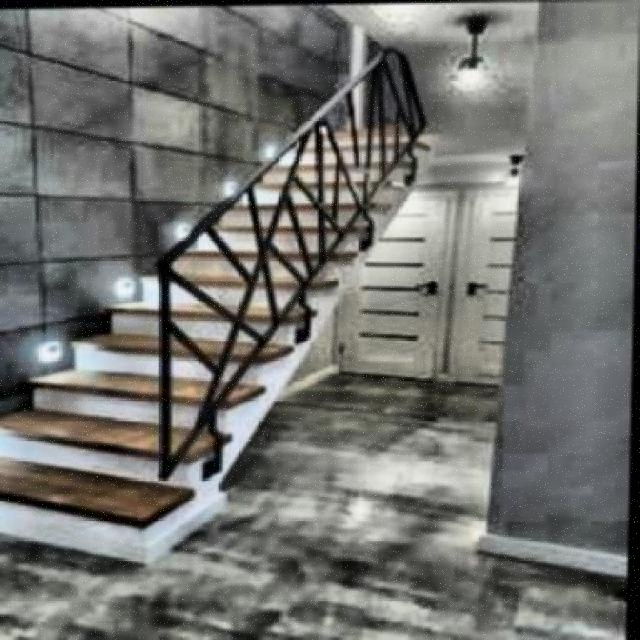stair: (2, 125, 446, 557)
